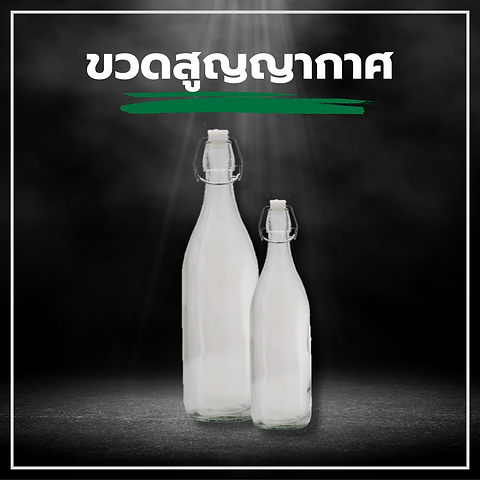glass_bottle: (174, 123, 324, 443)
